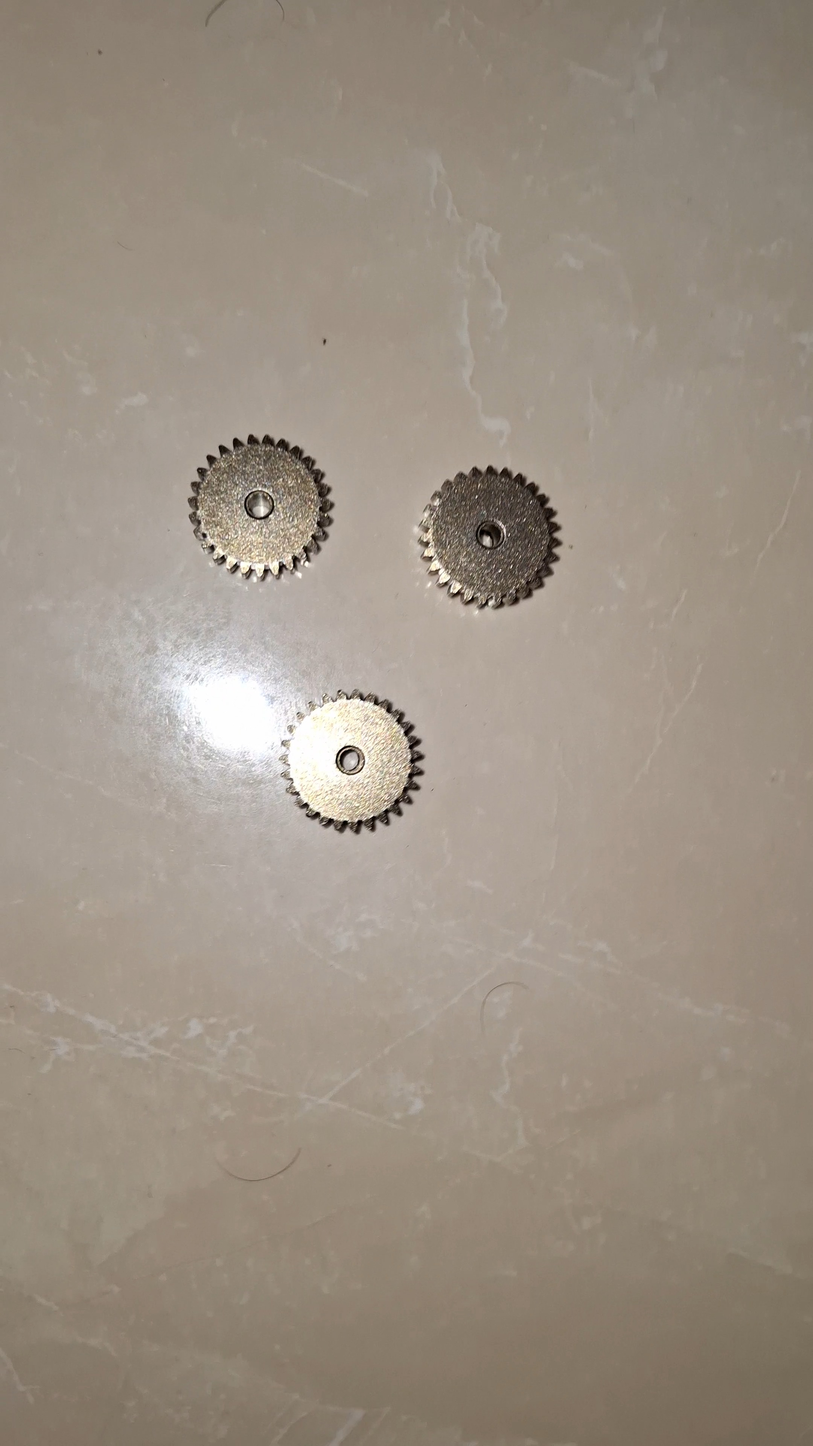spur gear: (190, 435, 331, 577), (280, 691, 422, 831), (420, 468, 557, 607)
